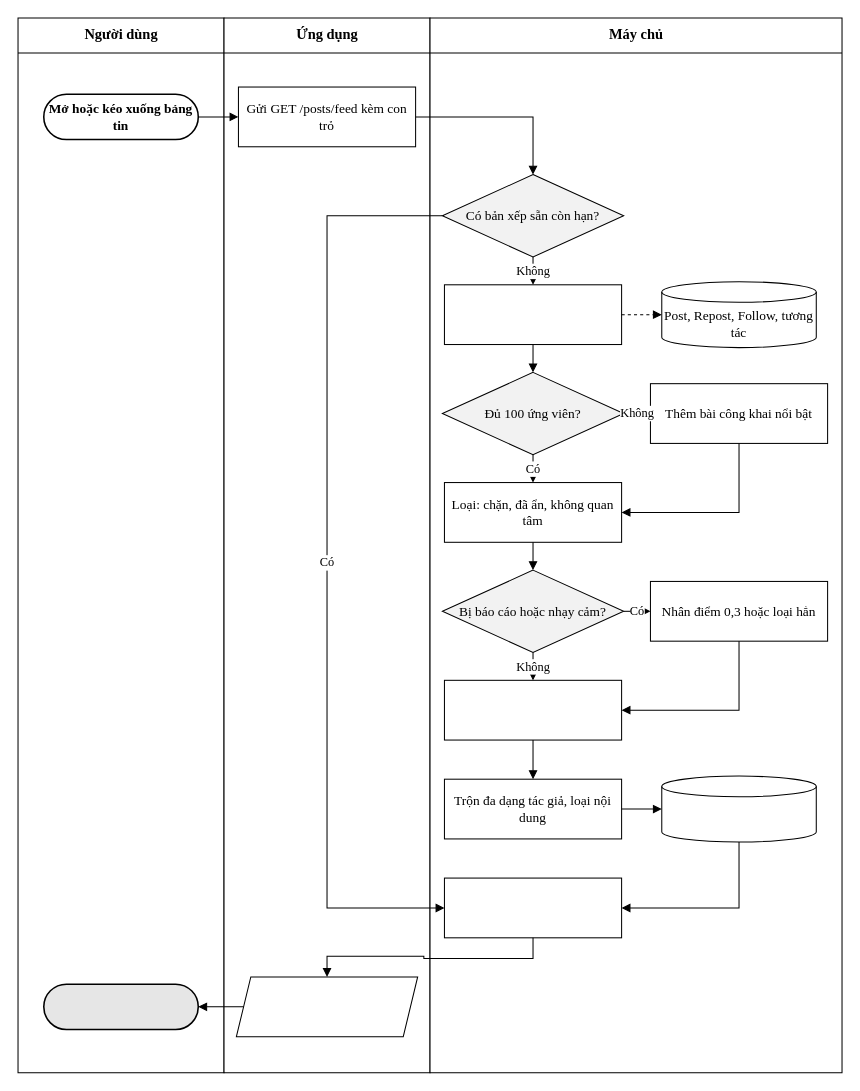
Some shapes in this 860 by 1091 pixel diagram are drawn without their labels. The centre of each missing label's shape, as x and y in pixels:
Cắt 10 bài, kèm lý do, con trỏ: the point at 532,907
Hiện bài, nút “Vì sao tôi thấy”: the point at 326,1006
Lưu FeedSnapshot 15 phút: the point at 738,808
Lấy bài, repost người theo dõi 7 ngày: the point at 532,314
Tính điểm từng bài: the point at 532,709
Xem, tương tác, cuộn tiếp: the point at 121,1006
